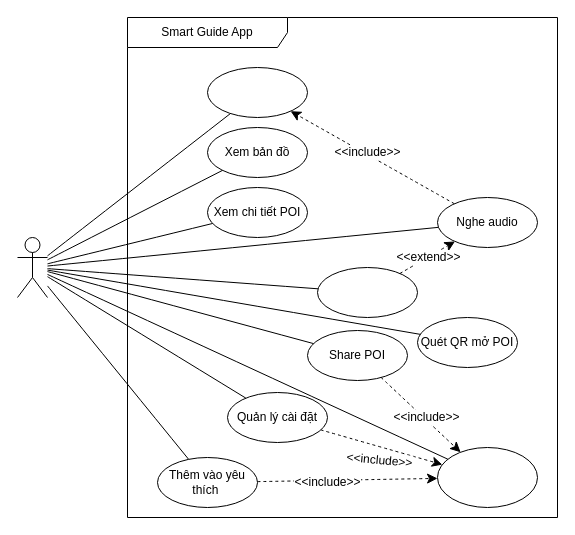
The diagram is 575 pixels wide and 535 high, and some of its shapes have lost their labels. Each missing label, with the centre of its shape:
"Tự động nghe audio" belongs at [367,292].
"User" belongs at [32,267].
"Xem danh sách POI" belongs at [257,92].
"Đăng nhập" belongs at [487,477].
